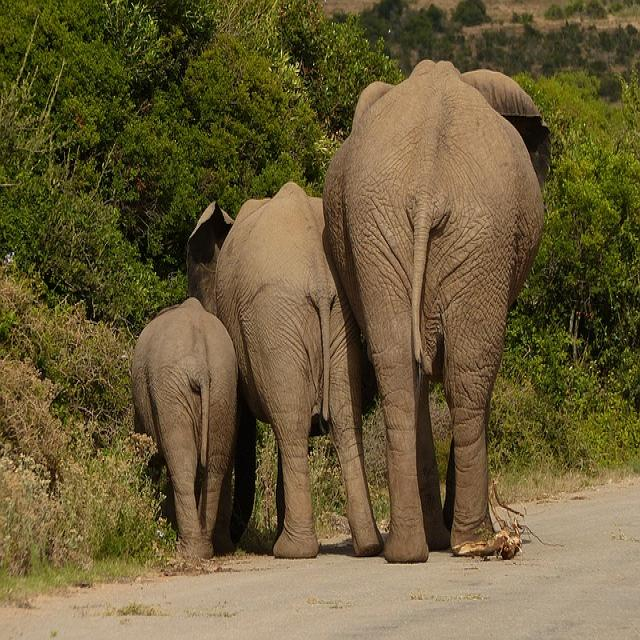elephant: (324, 62, 544, 562), (186, 183, 382, 558)
